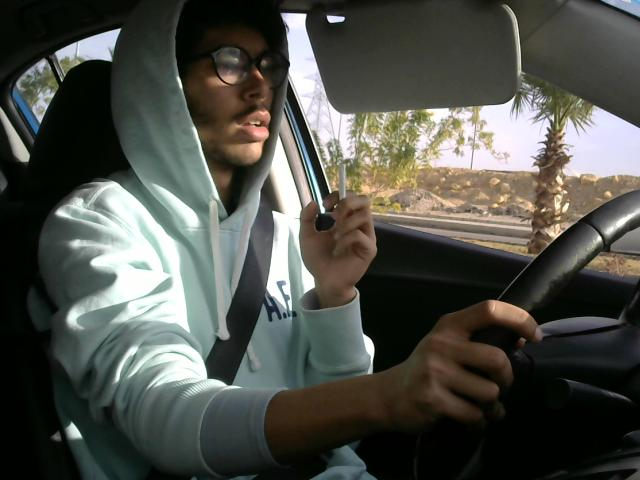Smoking: (334, 161, 353, 225)
